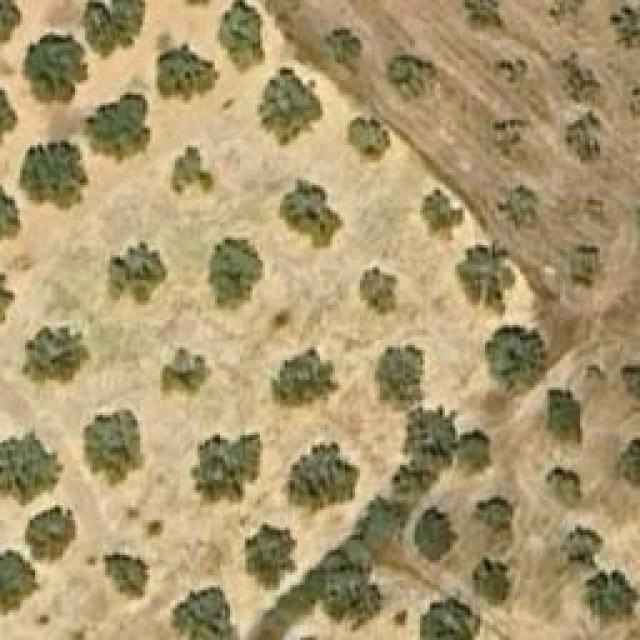Tree: (258, 68, 323, 148), (190, 433, 263, 503), (0, 427, 65, 505), (288, 442, 360, 512), (20, 140, 88, 210), (85, 95, 150, 165), (280, 178, 345, 248), (85, 410, 143, 485), (25, 35, 88, 103), (273, 350, 341, 411), (323, 560, 384, 626), (208, 238, 263, 311), (77, 0, 145, 58), (488, 328, 548, 393), (458, 242, 513, 310), (107, 240, 165, 303), (173, 582, 236, 640), (155, 45, 218, 103), (245, 522, 298, 590), (217, 0, 265, 70), (25, 328, 88, 381), (375, 345, 423, 410), (582, 570, 640, 623), (25, 505, 78, 560), (405, 410, 460, 463), (419, 597, 482, 640), (160, 348, 210, 401), (470, 495, 520, 548), (565, 110, 613, 163), (558, 53, 607, 102), (103, 550, 153, 598), (0, 550, 38, 613), (415, 508, 460, 561), (360, 498, 403, 551), (545, 390, 583, 448), (423, 188, 463, 243), (388, 55, 433, 103), (173, 145, 216, 195), (473, 557, 513, 605), (560, 525, 603, 568), (360, 267, 398, 315), (350, 115, 388, 160), (452, 433, 490, 476), (565, 245, 598, 288), (500, 188, 535, 228), (610, 5, 640, 50), (462, 0, 505, 31), (0, 83, 18, 153), (0, 258, 18, 328), (548, 467, 581, 505), (615, 440, 640, 490), (492, 120, 520, 163), (0, 183, 20, 243), (543, 0, 587, 27), (0, 0, 22, 45), (622, 360, 640, 405), (325, 32, 353, 60)
